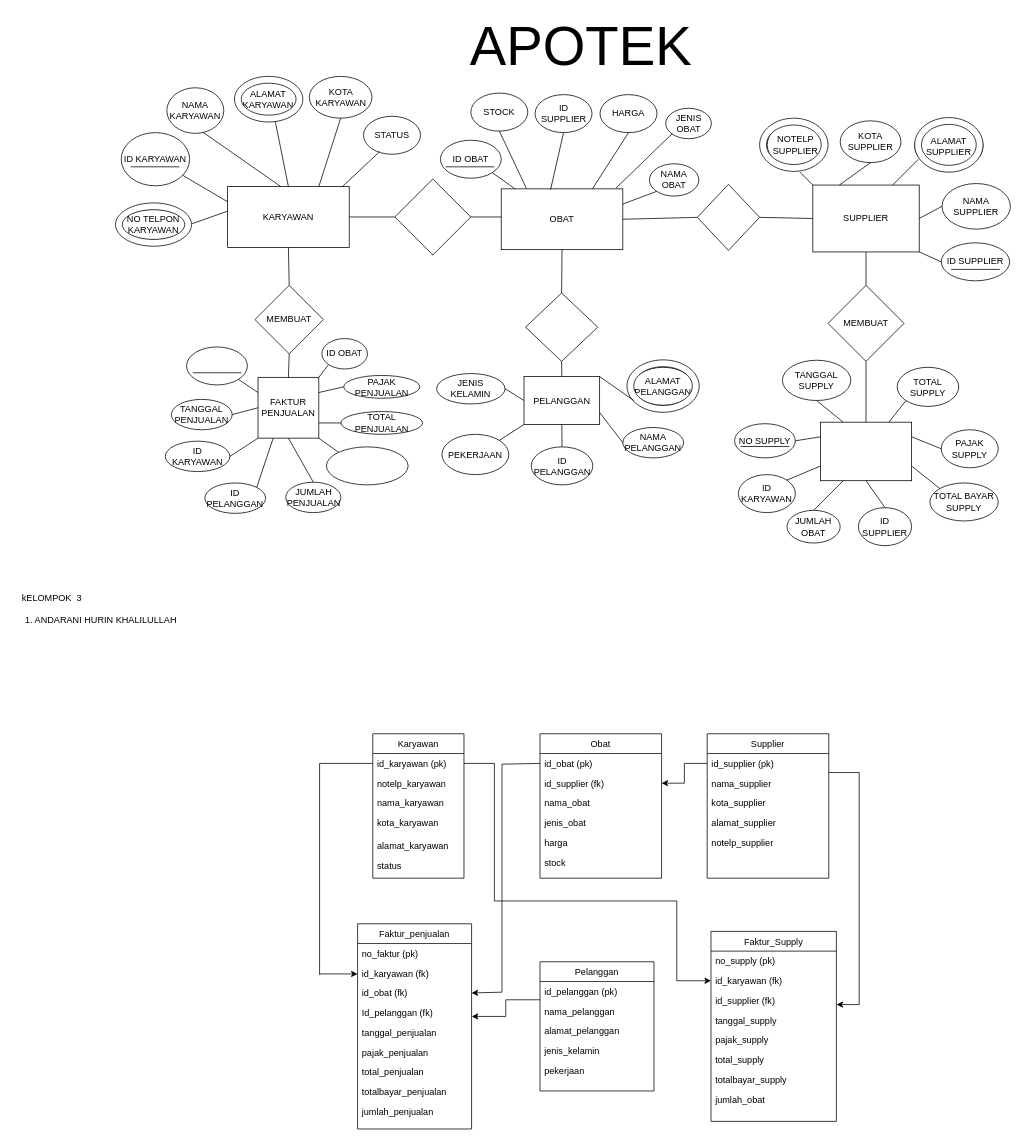
Some shapes in this 1024 by 1142 pixel diagram are drawn without their labels. The shapes that lost their labels are listed below. From the top down, each one's centre as x and y in pixels, then its label:
the point at 432,216: MENJUAL
the point at 728,217: SUPPLY
the point at 561,326: MEMBELI
the point at 216,365: NO FAKTUR
the point at 367,465: TOTAL BAYAR PENJUALAN
the point at 866,451: FAKTUR SUPPLY
